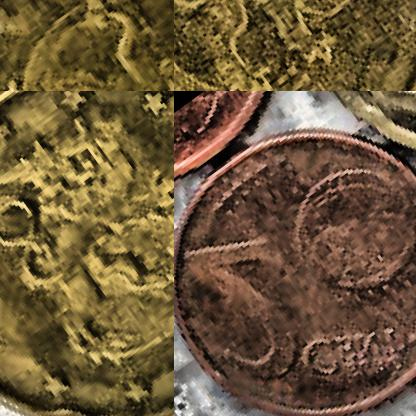coin: (174, 91, 415, 415), (0, 91, 173, 415), (174, 0, 415, 90), (0, 0, 173, 90)
